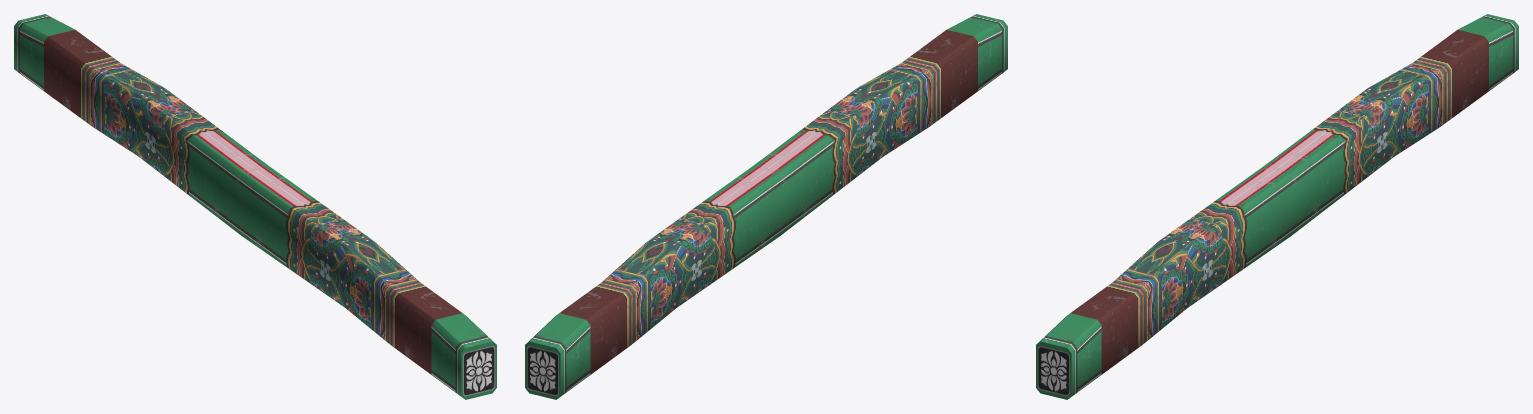
Rendered from SM_Daedeulbo01e.fbx.
The picture shows the model from 3 angles, left to right: view 1: azimuth 30°, elevation 25°; view 2: azimuth 150°, elevation 25°; view 3: azimuth 330°, elevation 25°; orthographic projection.
Parts seen in each view (by area): view 1: SM_Daedeulbo01e; view 2: SM_Daedeulbo01e; view 3: SM_Daedeulbo01e.
Part boxes in pixels (<box>): SM_Daedeulbo01e: <box>14,14,496,399</box>; SM_Daedeulbo01e: <box>525,14,1007,399</box>; SM_Daedeulbo01e: <box>1036,14,1518,399</box>.
Bounding box in the file's own units: 26.88 × 587 × 47.6.
1 material, 1 textured.
